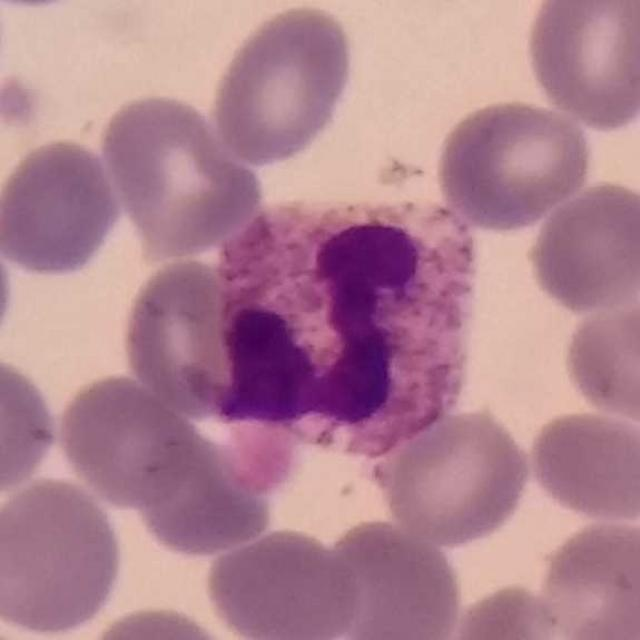Neutrophil: (195, 192, 482, 471)
Platelets: (0, 73, 49, 131)
RBC: (119, 373, 307, 554), (97, 87, 266, 259), (116, 254, 277, 422), (206, 1, 359, 168), (374, 403, 535, 550), (432, 95, 596, 232), (0, 474, 128, 640), (53, 370, 204, 510), (201, 523, 364, 640), (318, 514, 467, 640), (0, 134, 125, 280), (523, 177, 640, 316), (521, 0, 640, 132), (523, 406, 639, 526), (532, 513, 640, 640), (558, 287, 640, 427), (0, 349, 62, 506), (436, 579, 569, 640), (78, 601, 244, 640), (0, 220, 19, 364), (2, 0, 94, 14)
